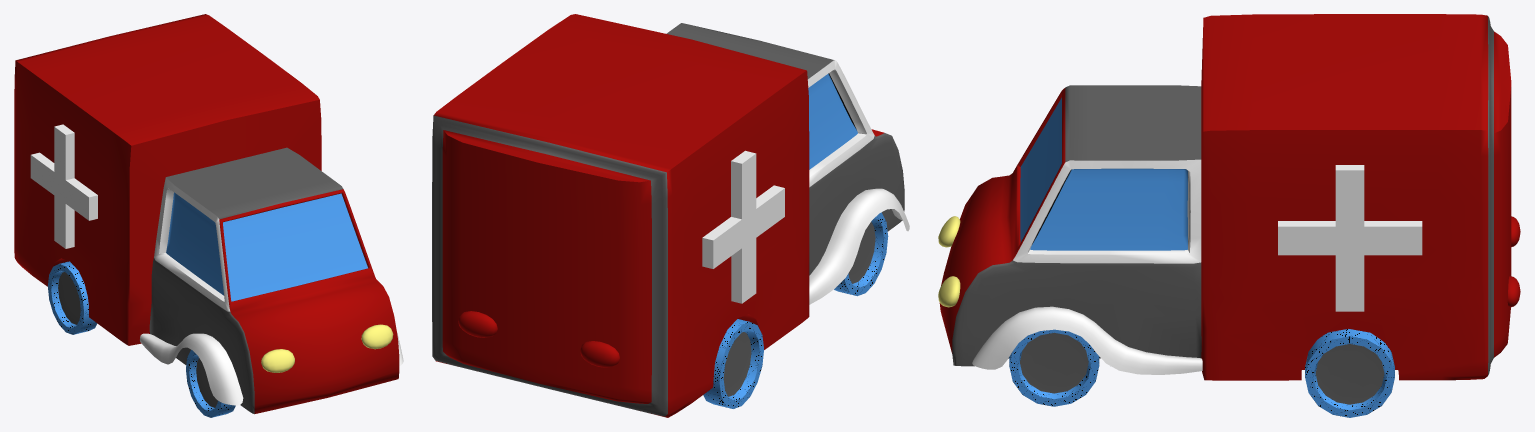
File: Ambulancia.fbx
3 renders of one model, left to right at view 1: azimuth 30°, elevation 25°; view 2: azimuth 150°, elevation 25°; view 3: azimuth 270°, elevation 25°, orthographic. The views are drawn at different scales.
Parts seen in each view (by area): view 1: CarrinhoFinal; view 2: CarrinhoFinal; view 3: CarrinhoFinal.
Part boxes in pixels (x1,y1,x2,y2): CarrinhoFinal: (14,14,403,417); CarrinhoFinal: (432,14,909,417); CarrinhoFinal: (938,14,1520,417).
Size of the model in its own units: 128 by 134 by 246.
Materials: 1 (1 with a texture image).
